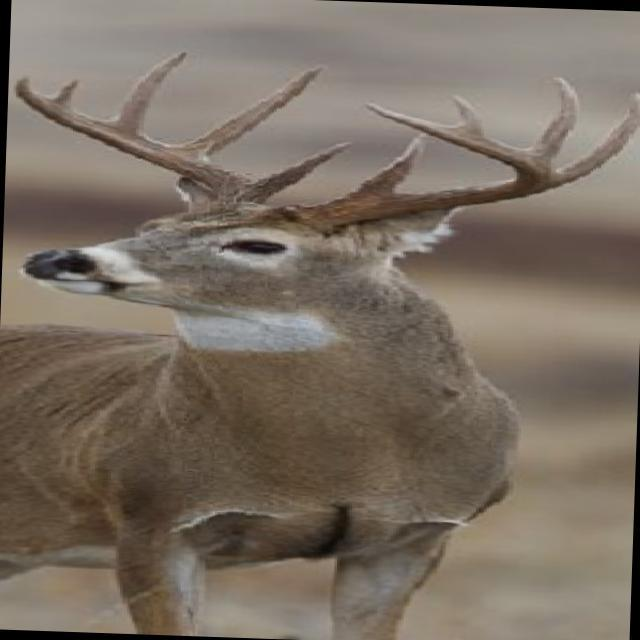L-F: (273, 101, 556, 233)
L-G1: (344, 133, 426, 196)
L-G2: (557, 88, 640, 186)
L-G3: (523, 76, 581, 164)
L-G4: (451, 92, 484, 136)
R-F: (12, 74, 268, 214)
R-G1: (254, 139, 354, 197)
R-G2: (174, 63, 326, 161)
R-G3: (105, 49, 189, 135)
R-G4: (49, 76, 84, 108)
